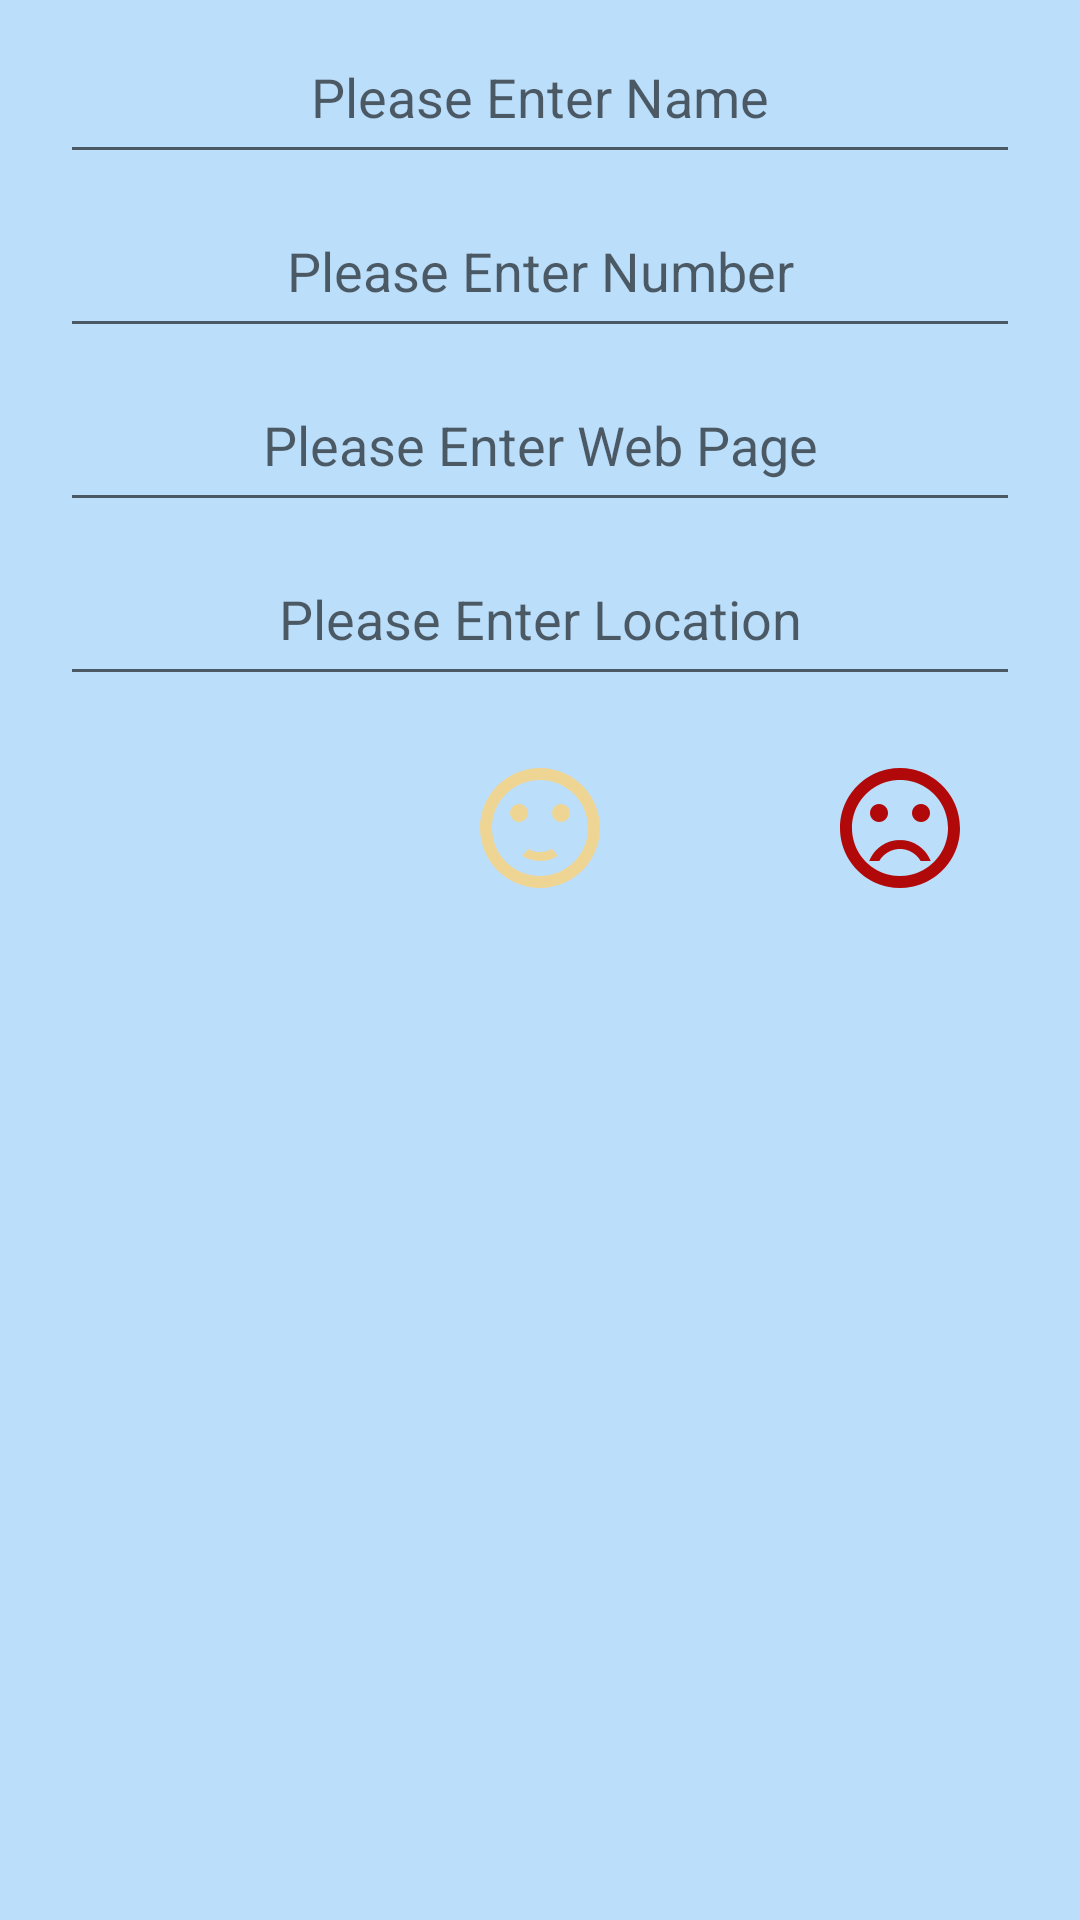

Icons on this 1080w x 1920h Android screen, each with its box as bbox(x1, y1, x2, y2):
sad: bbox(840, 768, 960, 888)
